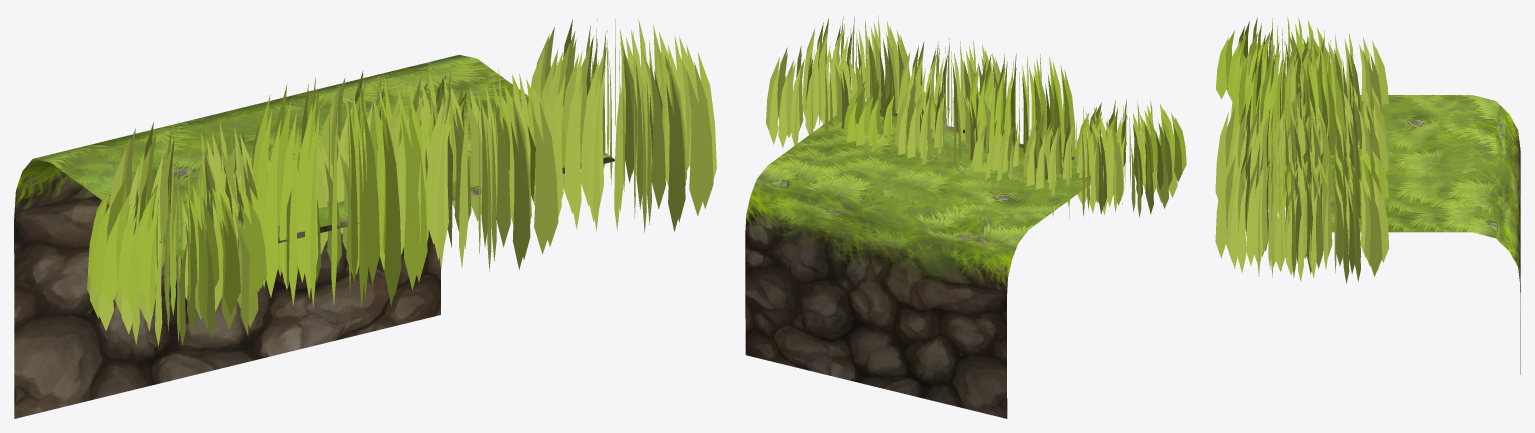
The model's file is platforma_grass.fbx.
3 views of the same model, side by side, from view 1: azimuth 30°, elevation 25°; view 2: azimuth 150°, elevation 25°; view 3: azimuth 270°, elevation 25° (orthographic). The views are drawn at different scales.
Visible parts, largest first — view 1: Plane; view 2: Plane; view 3: Plane.
Boxes of the visible parts, left/top/right/bottom form: Plane: left=14, top=18, right=716, bottom=418; Plane: left=745, top=15, right=1186, bottom=418; Plane: left=1215, top=14, right=1520, bottom=374.
Bounding box in the file's own units: 27.69 × 17.27 × 17.65.
